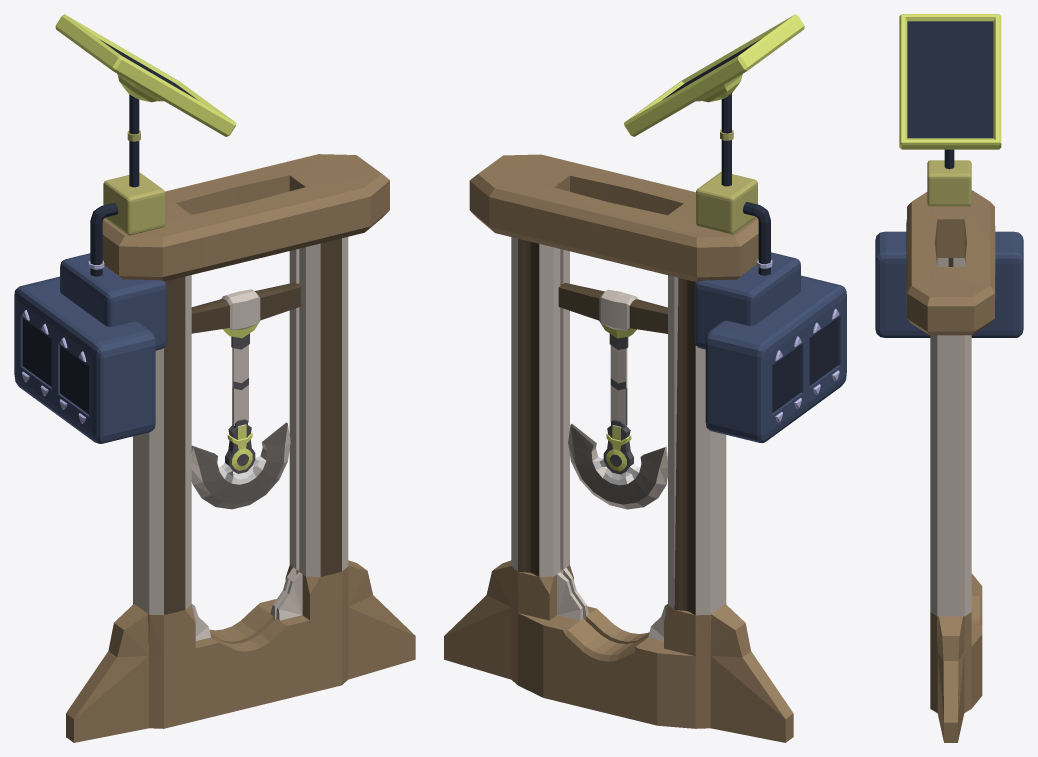
Rendered from The Pendulum.fbx.
3 views of the same model, side by side, from view 1: azimuth 30°, elevation 25°; view 2: azimuth 150°, elevation 25°; view 3: azimuth 270°, elevation 25° (orthographic). The views are drawn at different scales.
Parts seen in each view (by area): view 1: Box001, Box004, Cylinder001, Box002, Box003, Gullotine, Box005; view 2: Box001, Box004, Cylinder001, Box002, Gullotine, Box003, Box005; view 3: Box001, Box003, Box004, Box005.
Part boxes in pixels (bbox=[...]): Box001: bbox=[66, 154, 415, 742]; Box004: bbox=[14, 276, 155, 443]; Cylinder001: bbox=[191, 419, 290, 509]; Box002: bbox=[60, 253, 166, 350]; Box003: bbox=[55, 14, 236, 136]; Gullotine: bbox=[191, 282, 300, 425]; Box005: bbox=[88, 130, 165, 276]; Box001: bbox=[444, 154, 793, 742]; Box004: bbox=[705, 275, 846, 442]; Cylinder001: bbox=[568, 419, 667, 509]; Box002: bbox=[694, 252, 800, 349]; Gullotine: bbox=[558, 283, 667, 426]; Box003: bbox=[624, 14, 804, 136]; Box005: bbox=[696, 129, 772, 275]; Box001: bbox=[906, 190, 995, 742]; Box003: bbox=[899, 14, 1001, 149]; Box004: bbox=[875, 231, 1023, 337]; Box005: bbox=[927, 149, 971, 206].
Bounding box in the file's own units: 222 × 412 × 93.07.
